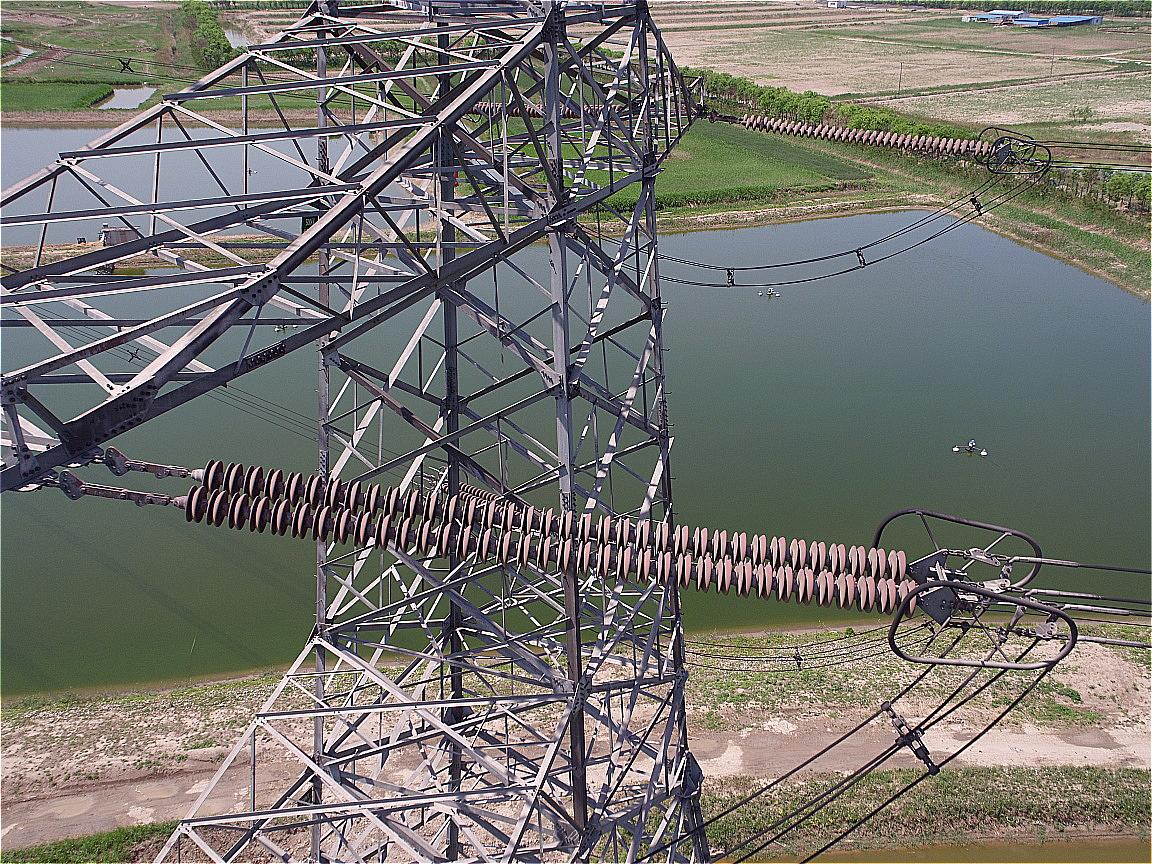insultor2: (176, 445, 931, 628)
